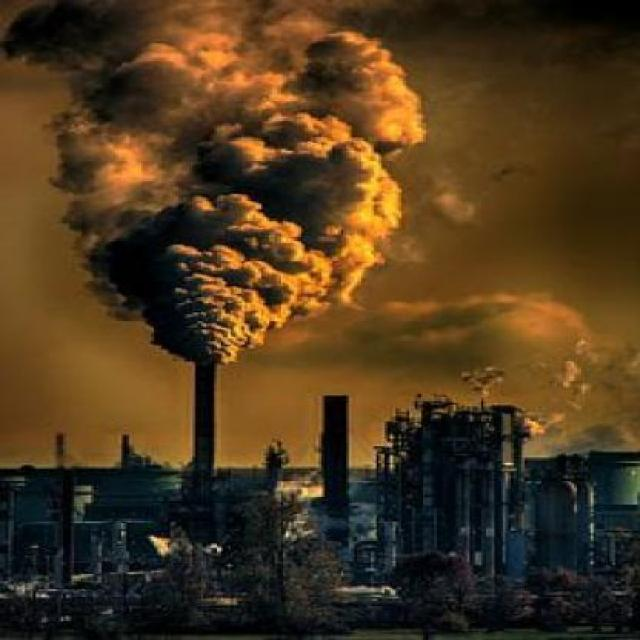smoke: (28, 0, 528, 377)
